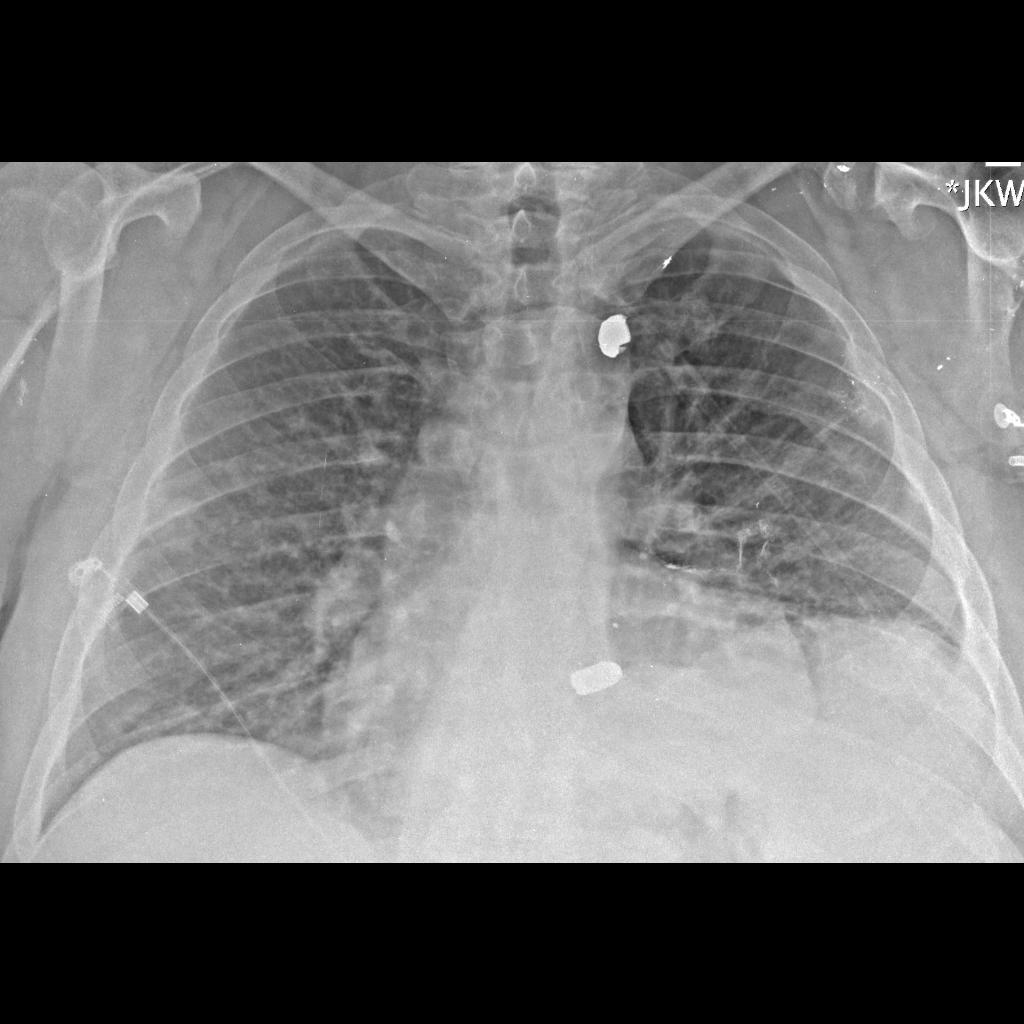Nodule: (145, 486, 202, 561)
